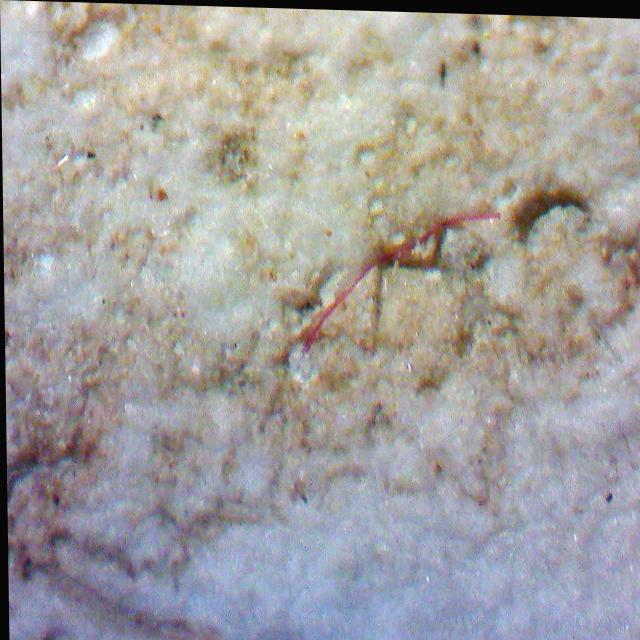microplastic: (300, 209, 500, 350)
